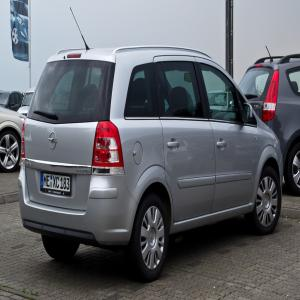Vehicle-registration-plate: (44, 173, 70, 204)
